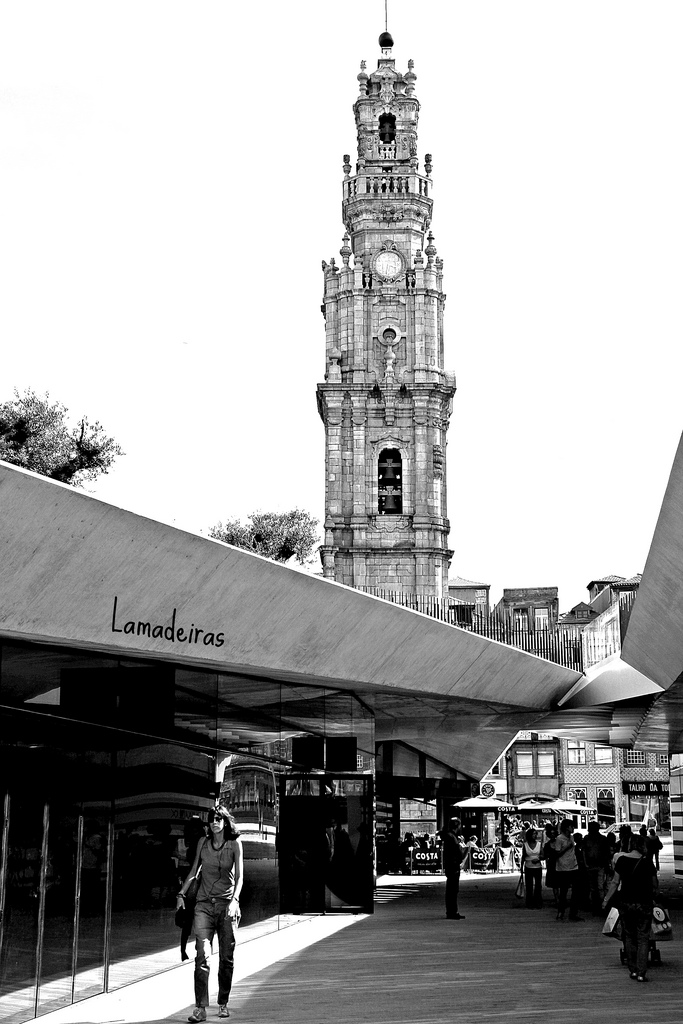clerigos: (317, 0, 456, 625)
